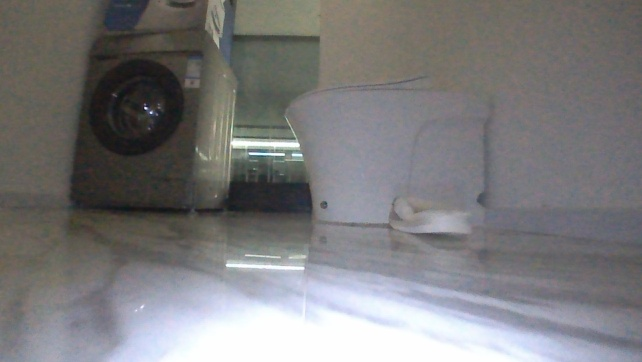shoe: (385, 189, 473, 240)
toilet: (278, 70, 496, 232)
washing_machine: (64, 22, 242, 217)
